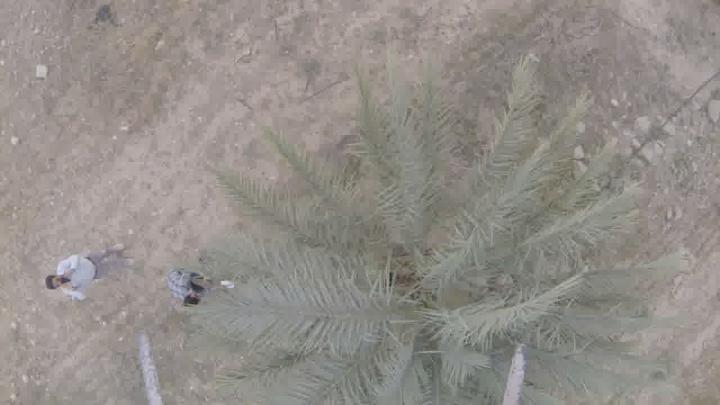Date-Palm-Crown: (288, 178, 578, 404)
